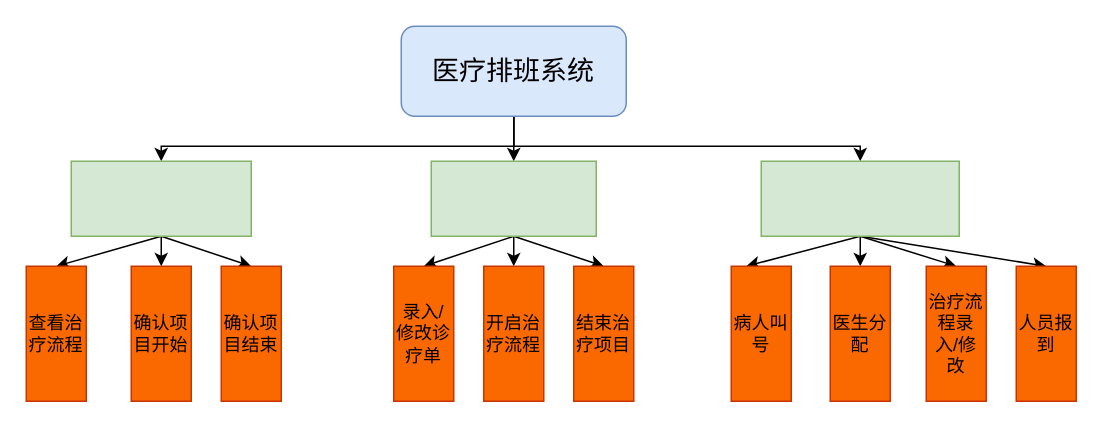
Some shapes in this 1103 by 428 pixel diagram are drawn without their labels. Each missing label, with the box of its shape:
医生模块: (430, 160, 596, 236)
治疗流程管理模块: (760, 160, 959, 236)
病人模块: (70, 160, 251, 236)
